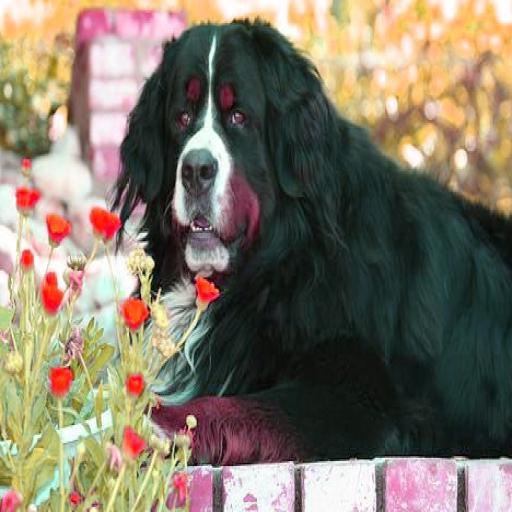dog_face: (132, 24, 318, 257)
